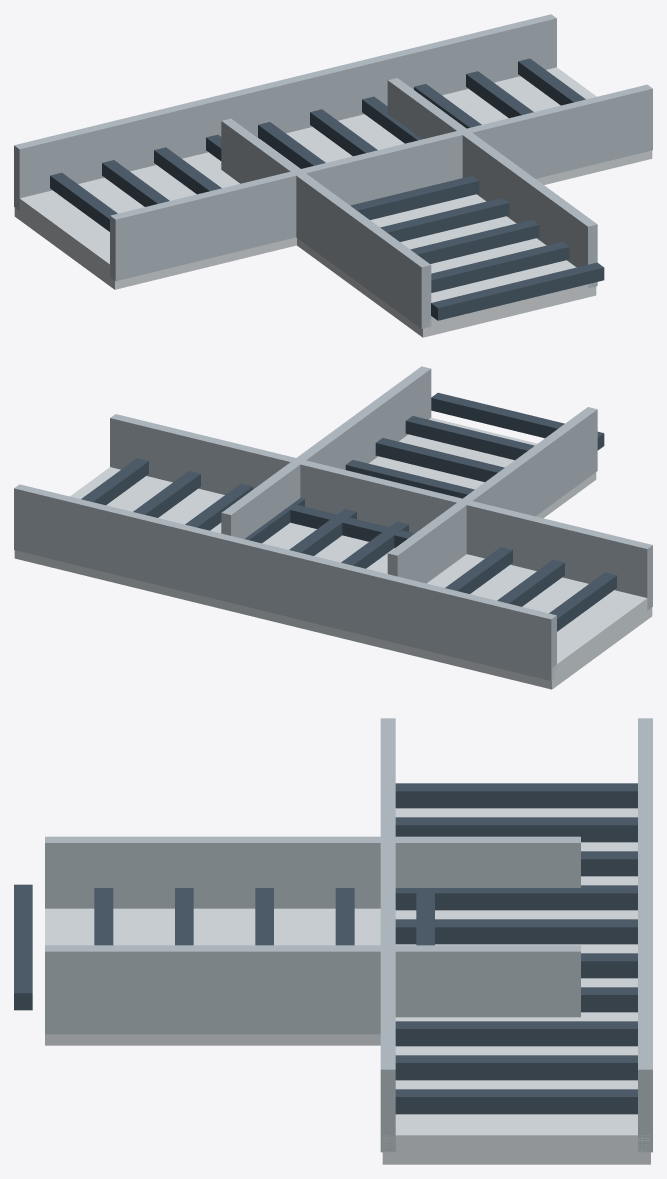
File: cable-tray-tee.glb
3 renders of one model, top to bottom at view 1: azimuth 30°, elevation 25°; view 2: azimuth 150°, elevation 25°; view 3: azimuth 270°, elevation 25°, orthographic. The views are drawn at different scales.
Visible parts, largest first — view 1: cable-tray-tee; view 2: cable-tray-tee; view 3: cable-tray-tee.
Boxes of the visible parts, <box> form: cable-tray-tee: <box>14,14,652,337</box>; cable-tray-tee: <box>14,366,652,689</box>; cable-tray-tee: <box>14,718,652,1164</box>.
Bounding box in the file's own units: 1.55 × 0.195 × 1.19.
